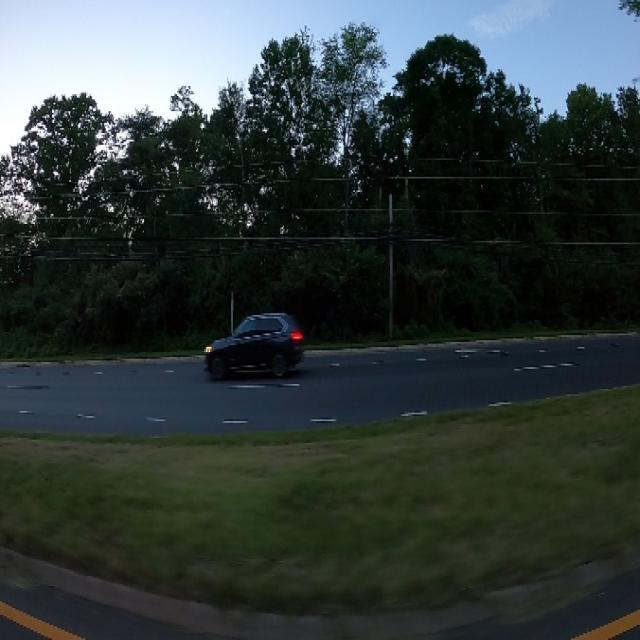cars: (198, 311, 308, 384)
